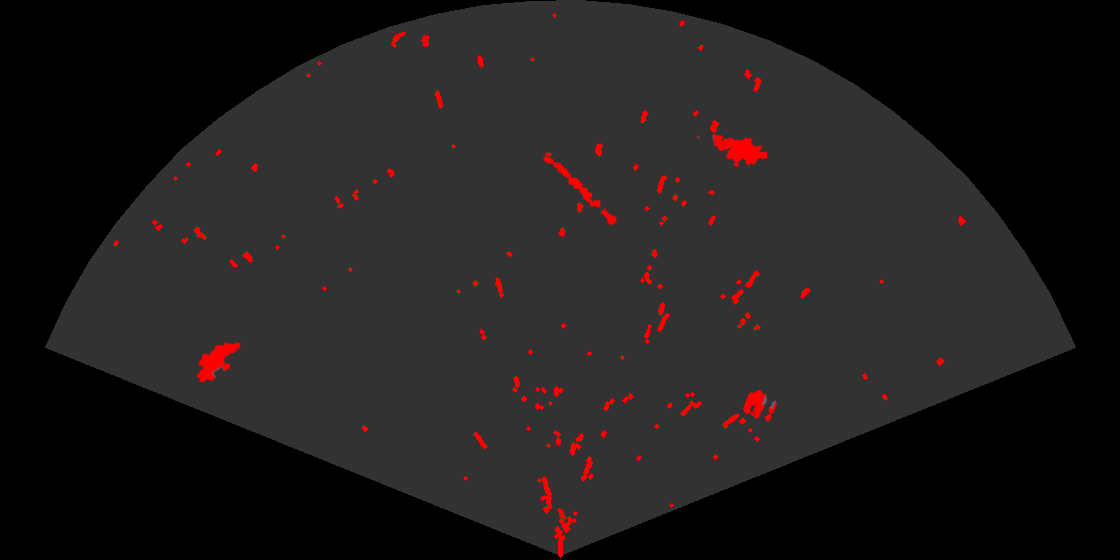AUV: (195, 340, 243, 384)
ball: (741, 388, 779, 423)
chain: (542, 155, 618, 227)
frogman: (695, 132, 767, 169)
